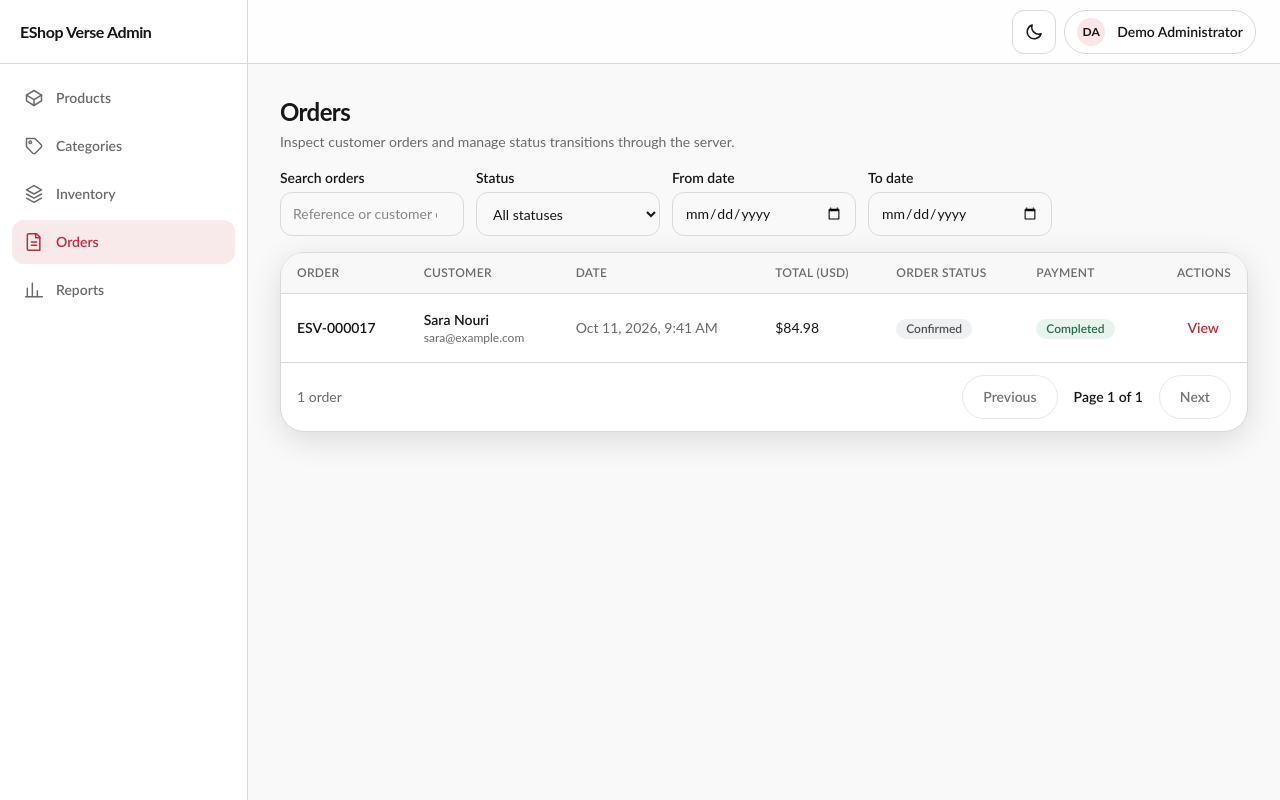
Test: OrdersPage (A-06) › orders_no_results_state_clears_filters_and_reloads
Expected: the text "ESV-000017" is shown, [281,294,408,362]
Type "zzz" into the search field labelled "Search orders". click: (372, 214)
box: [280,192,464,236]
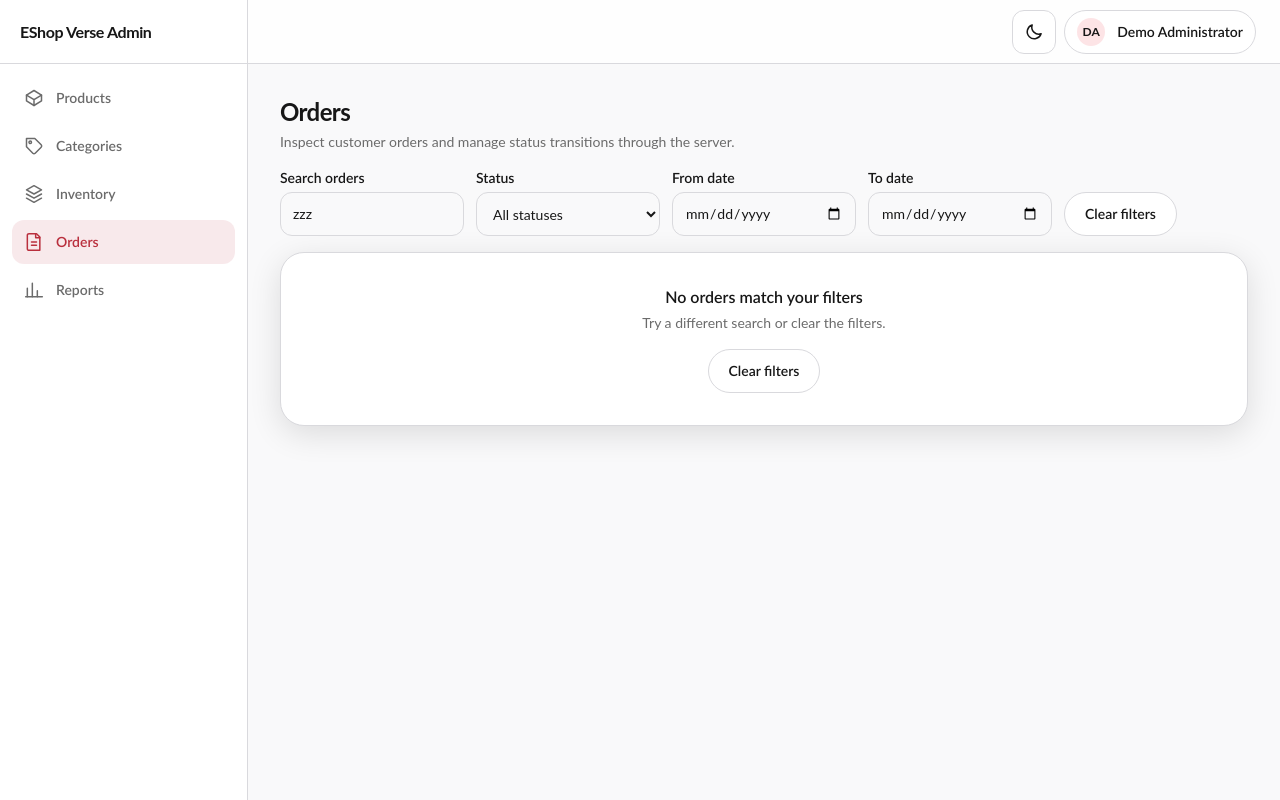
Click the button "Clear filters" below "No orders match your filters". click: (764, 371)
box: [708,349,820,393]
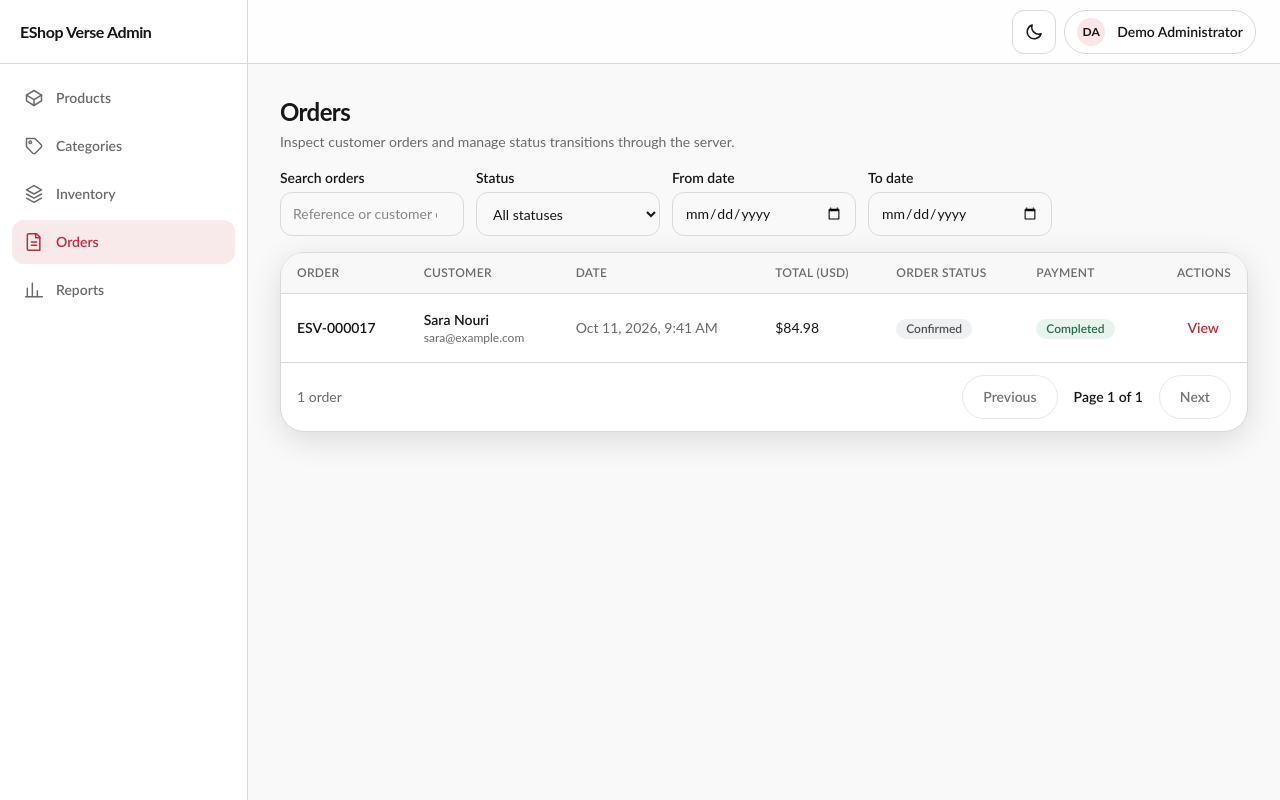
Expected: the text "ESV-000017" is shown, [281,294,408,362]
Expected: the search field labelled "Search orders" is empty, [280,192,464,236]
